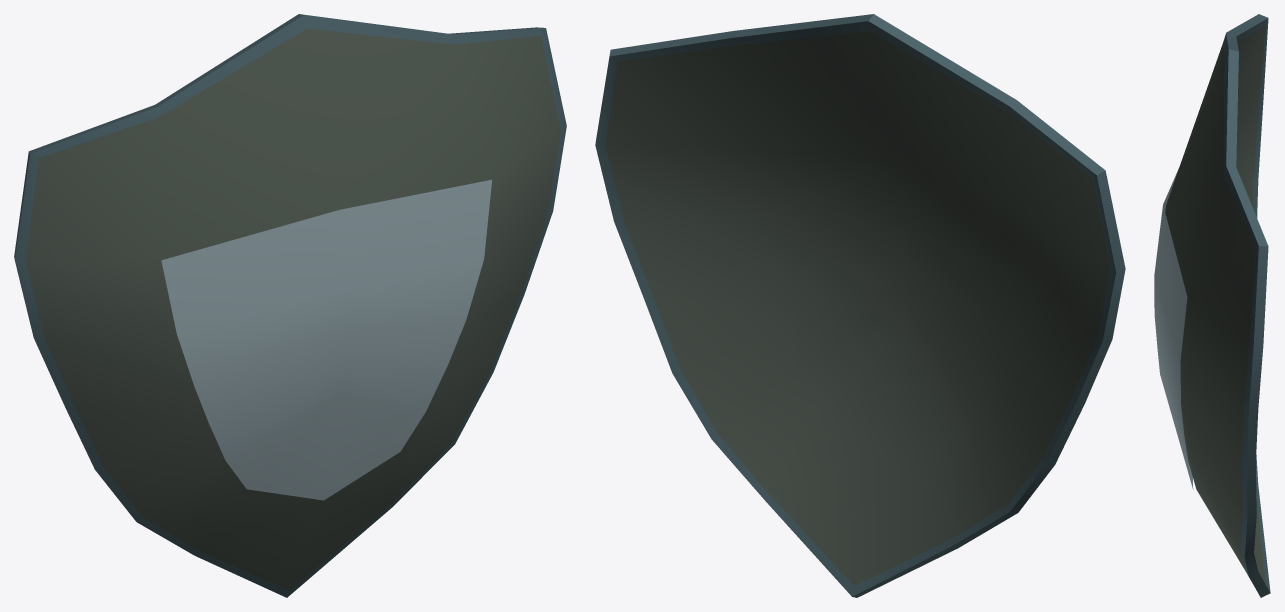
File: Shield_2.fbx
The picture shows the model from 3 angles, left to right: view 1: azimuth 30°, elevation 25°; view 2: azimuth 150°, elevation 25°; view 3: azimuth 270°, elevation 25°; orthographic projection. The views are drawn at different scales.
Visible parts, largest first — view 1: Shield, Logo; view 2: Shield; view 3: Shield, Logo.
Boxes of the visible parts, left/top/right/bottom form: Shield: left=14, top=14, right=566, bottom=597; Logo: left=161, top=179, right=491, bottom=500; Shield: left=595, top=14, right=1125, bottom=597; Shield: left=1165, top=14, right=1270, bottom=597; Logo: left=1154, top=169, right=1193, bottom=489.
Size of the model in its own units: 3.81 by 3.93 by 0.7531.
